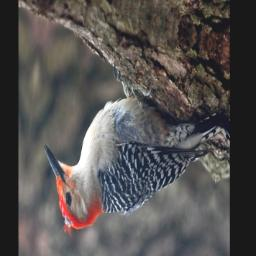Woodpecker: (36, 36, 223, 256)
